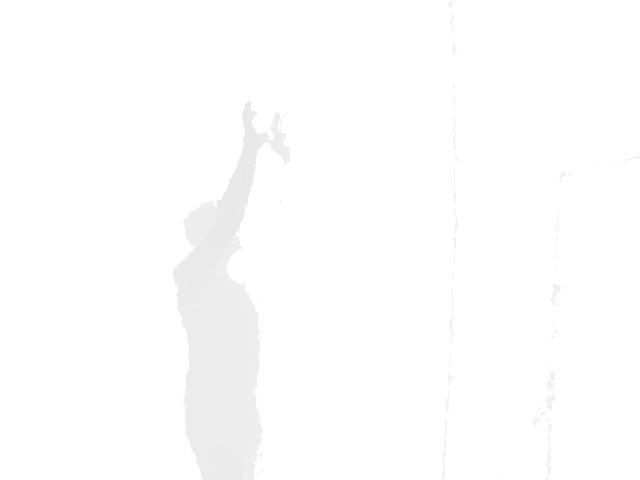hand: (240, 100, 269, 150)
head: (183, 198, 244, 256)
person: (171, 98, 271, 480)
